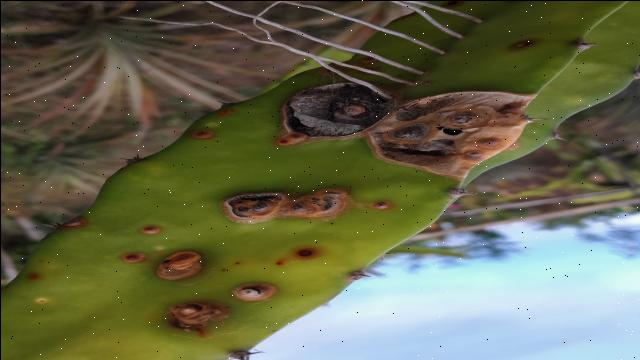stemcanker: (62, 197, 163, 278), (280, 242, 324, 263), (354, 196, 399, 215)
